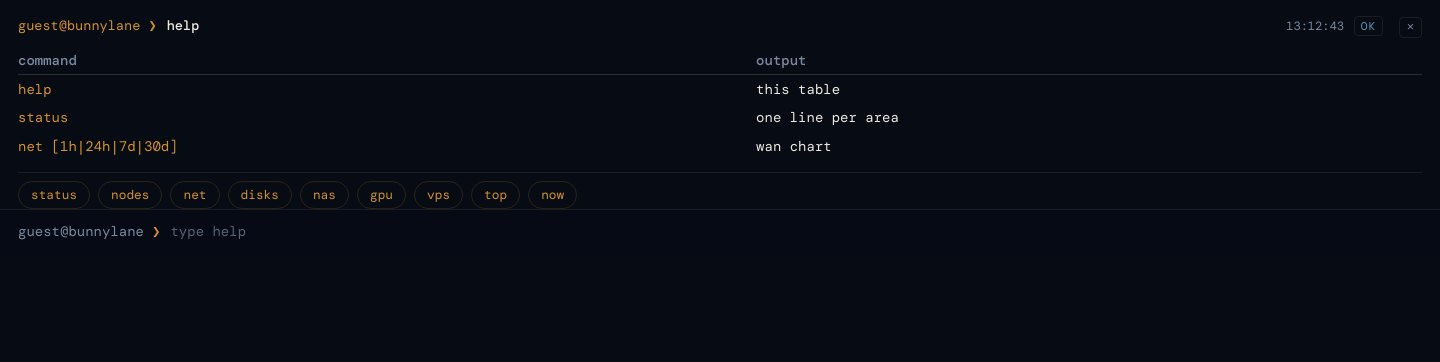
a watch whose connection drops is marked stopped and the prompt is free again
This screenshot has width=1440, height=362.
Check: the text "this table" is shown, box 756,74 -> 1422,103
Type "watch net" into the field named "command" at [795, 232], box 168,220 -> 1422,243
Then press Enter
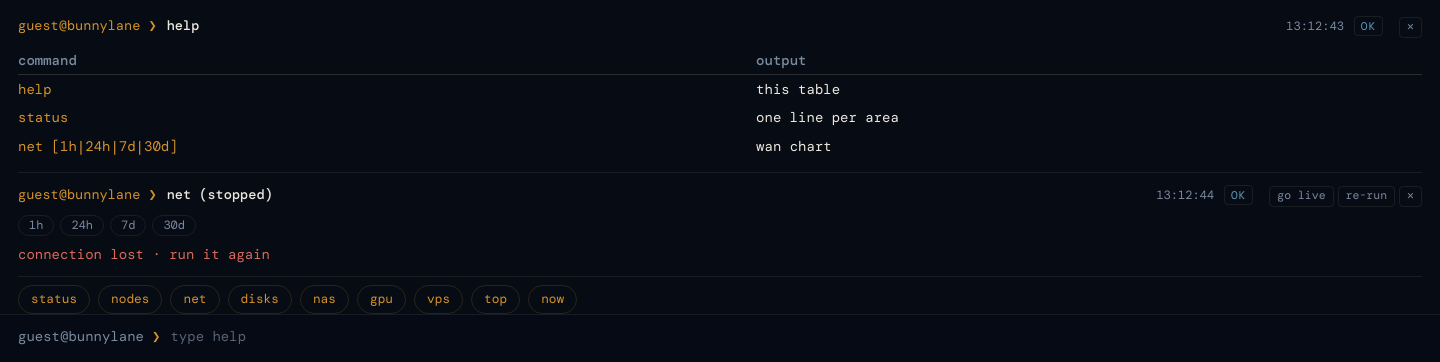
Check: the element "net (stopped)" shows "connection", box 18,245 -> 270,263
